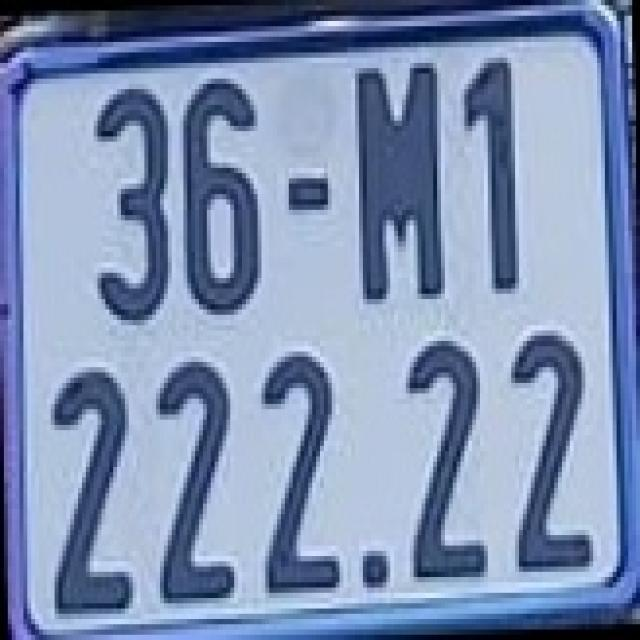1: (460, 52, 530, 294)
2: (46, 356, 136, 614), (258, 341, 348, 598), (402, 330, 492, 582), (507, 326, 597, 572), (152, 352, 238, 604)
3: (86, 78, 172, 320)
6: (180, 73, 270, 315)
M: (355, 53, 445, 310)
